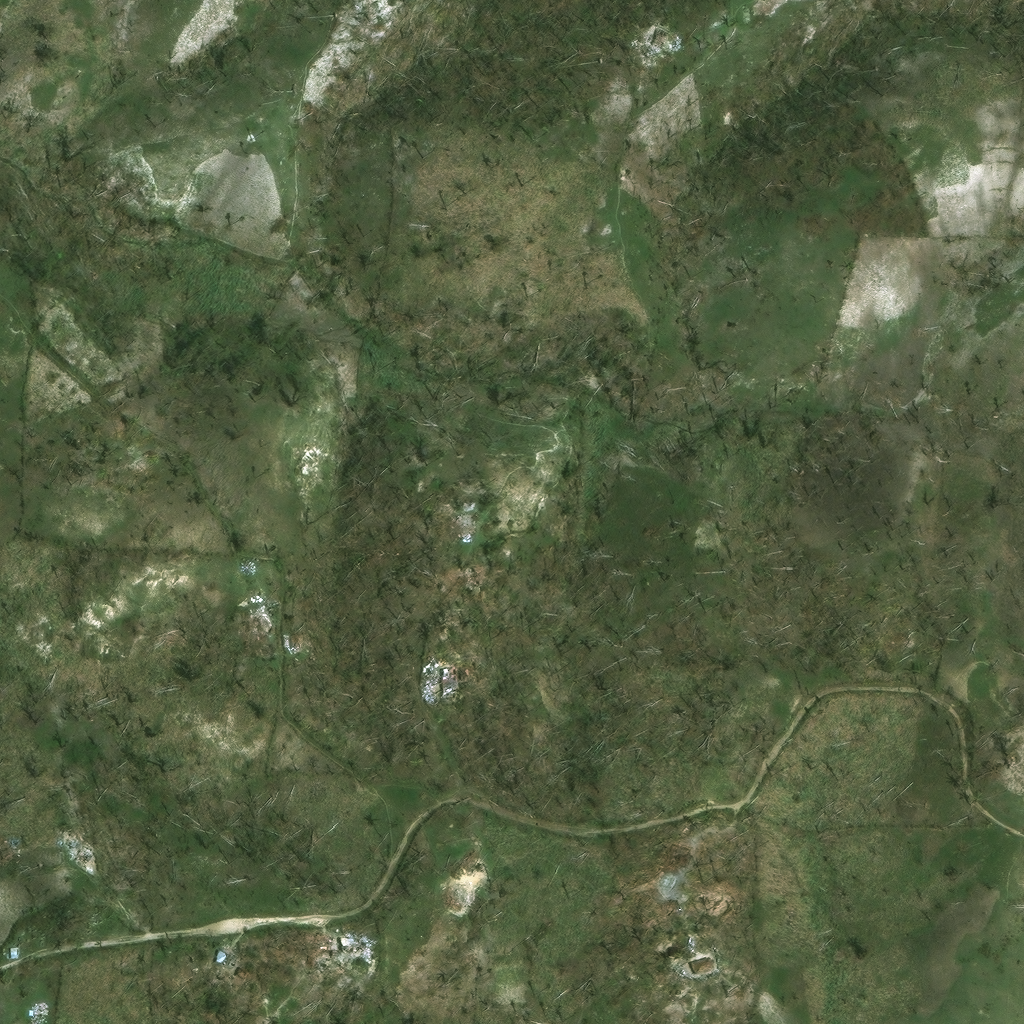destroyed: (659, 846, 684, 874), (450, 659, 471, 691), (297, 932, 333, 948), (306, 621, 325, 642), (443, 887, 462, 908), (468, 566, 484, 584), (472, 659, 488, 675), (654, 902, 668, 920), (629, 49, 643, 65), (459, 518, 472, 530), (386, 0, 395, 4)
major_damage: (640, 30, 660, 53), (339, 936, 358, 952)
minor_damage: (672, 966, 692, 983), (656, 952, 665, 963)
